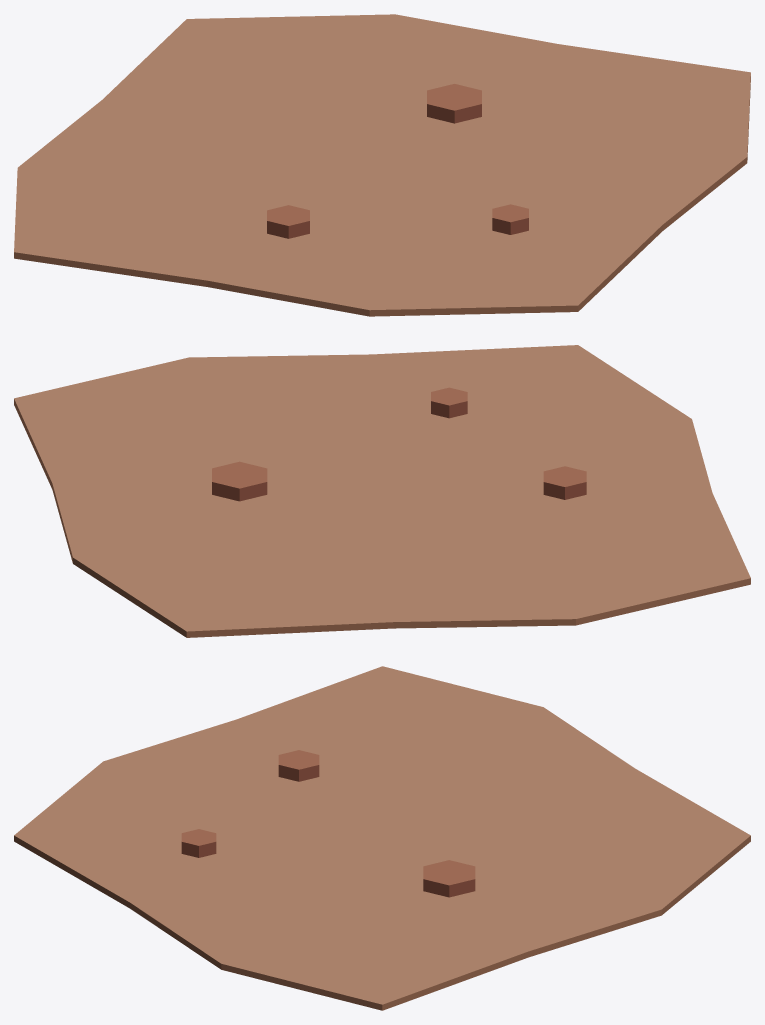
The model's file is ground_accent.fbx.
3 renders of one model, top to bottom at view 1: azimuth 30°, elevation 25°; view 2: azimuth 150°, elevation 25°; view 3: azimuth 270°, elevation 25°, orthographic. The views are drawn at different scales.
Visible parts, largest first — view 1: ground_accent; view 2: ground_accent; view 3: ground_accent.
Boxes of the visible parts, x1,y1,x2,y2 form: ground_accent: (14, 14, 750, 316); ground_accent: (14, 345, 750, 637); ground_accent: (14, 666, 750, 1010).
Size of the model in its own units: 0.48 by 0.012 by 0.4416.
